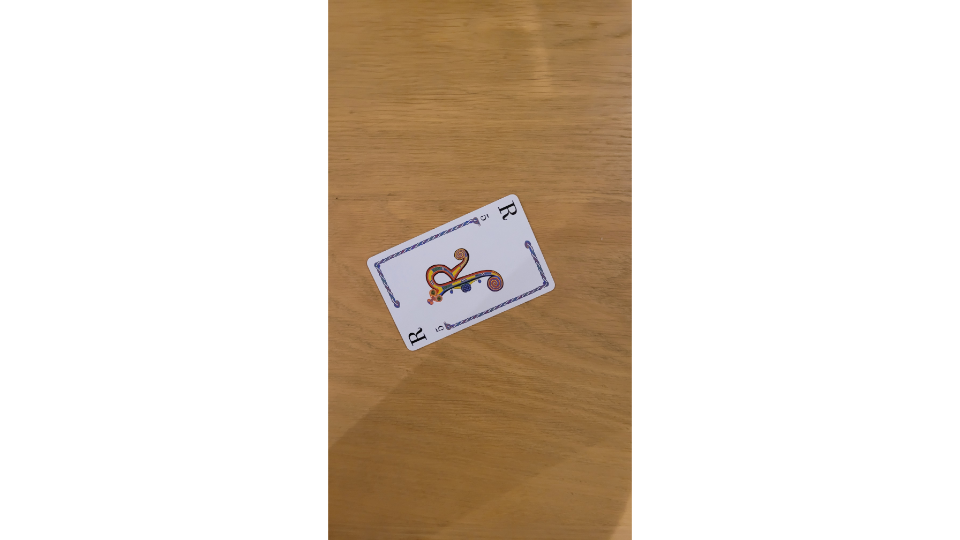R: (364, 191, 560, 353)
